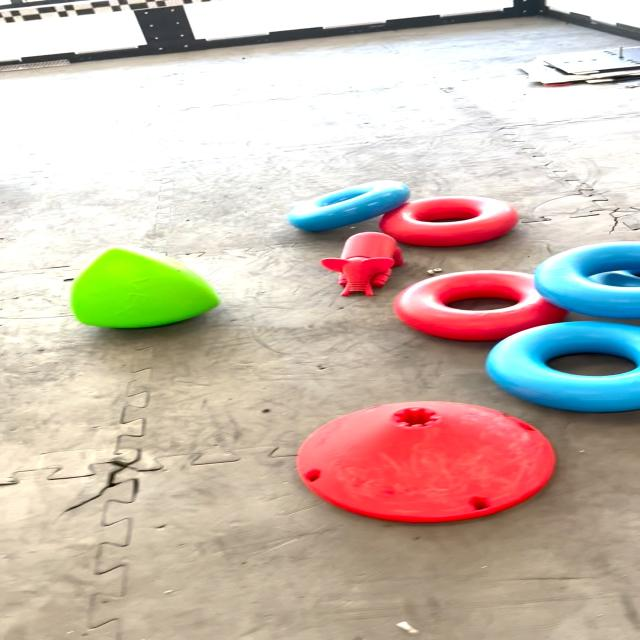Blue-Ring: (487, 321, 639, 412), (536, 241, 639, 319), (287, 180, 411, 231)
Red-Ring: (393, 270, 567, 340), (380, 196, 518, 246)
